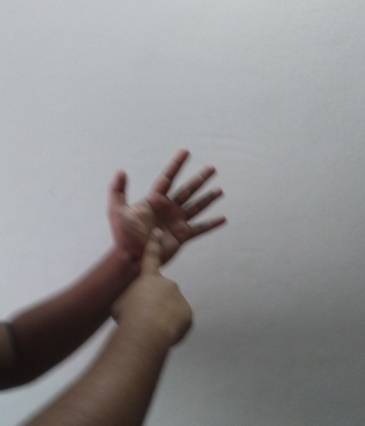oo: (106, 146, 228, 338)
